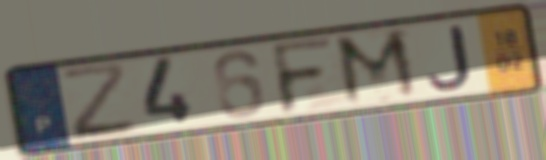4: (140, 53, 202, 131)
6: (211, 48, 268, 120)
F: (267, 34, 339, 117)
J: (424, 23, 475, 92)
M: (331, 26, 425, 110)
Z: (56, 59, 143, 143)
